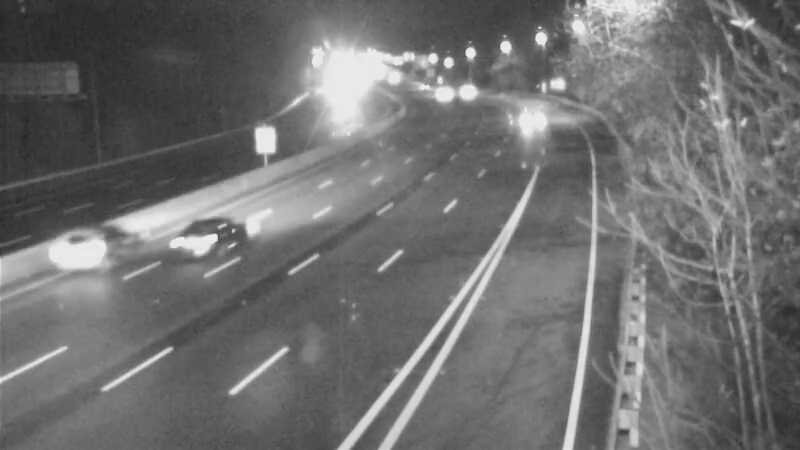vehicle: (162, 206, 242, 286), (40, 215, 120, 295), (397, 60, 447, 110), (437, 64, 487, 114), (414, 65, 464, 115), (506, 94, 556, 144)
